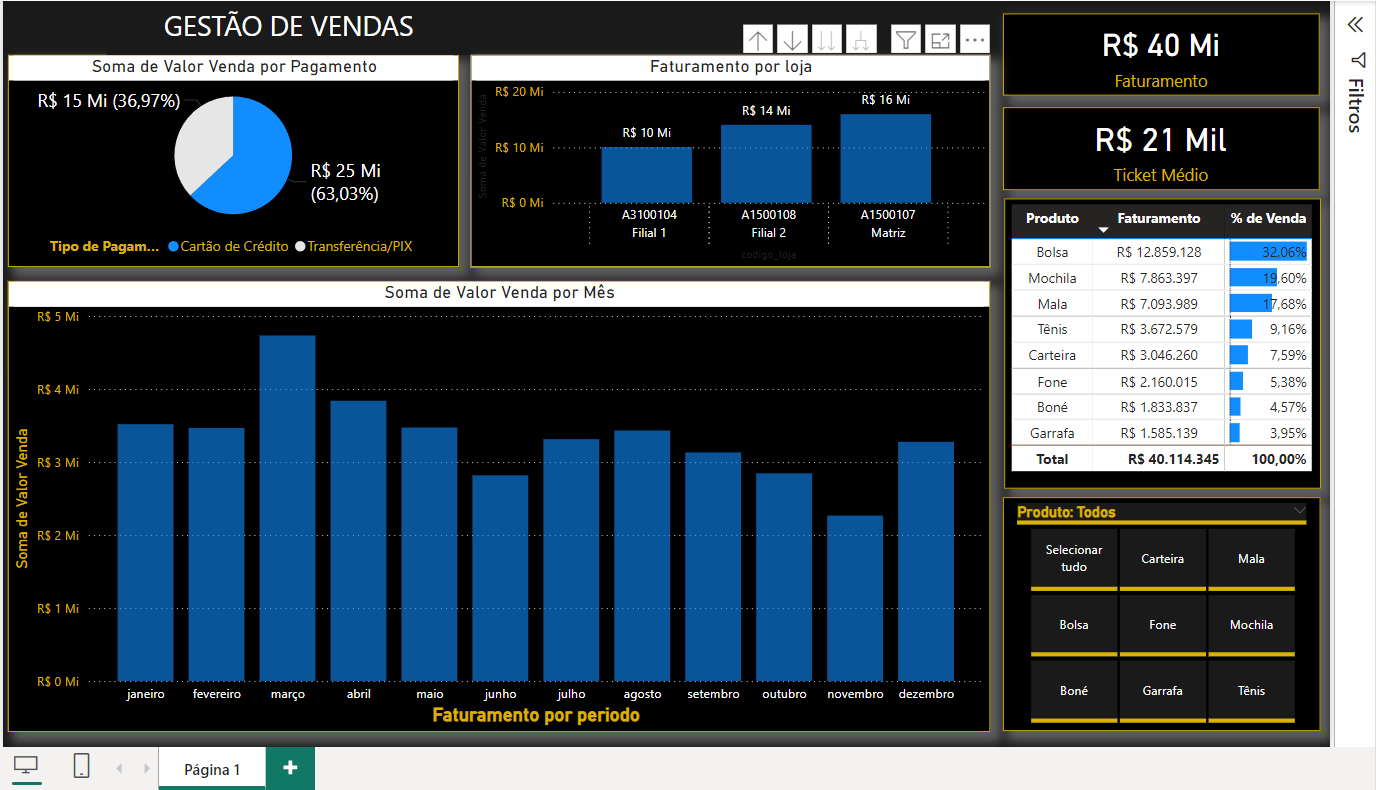

The dashboard page shown, as its layout file describes it:
{"tool":"powerbi","page":{"name":"Página 1","canvas":[1280,720],"ordinal":0},"visuals":[{"type":"card","fields":{"Values":["Sum(registroVendas.Valor Venda)"]},"box":[964.8,12.2,305.7,79.5],"z":0},{"type":"card","fields":{"Values":["Avg(registroVendas.Valor Venda)"]},"box":[965.2,102.5,305.2,79.6],"z":1000},{"type":"clusteredColumnChart","fields":{"Category":["registroVendas.Data Pedido.Variation.Hierarquia de datas.Mês"],"Y":["Sum(registroVendas.Valor Venda)"]},"box":[4.9,270.2,947.7,435.3],"z":2000},{"type":"pieChart","fields":{"Y":["Sum(registroVendas.Valor Venda)"],"Category":["registroVendas.Pagamento"]},"box":[4.8,51.9,435.5,205.1],"z":3000},{"type":"clusteredColumnChart","title":"Faturamento por loja","fields":{"Y":["Sum(registroVendas.Valor Venda)"],"Category":["lojas.nome_loja","lojas.codigo_loja"]},"box":[451.2,51.9,501.9,205.1],"z":4000},{"type":"tableEx","fields":{"Values":["registroVendas.Produto","Sum(registroVendas.Valor Venda)","Divide(Sum(registroVendas.Valor Venda), ScopedEval(Sum(registroVendas.Valor Venda), []))"]},"box":[966.4,190.6,305.2,279.9],"z":5000},{"type":"slicer","fields":{"Values":["registroVendas.Produto"]},"box":[965.2,479,306.4,225.6],"z":6000},{"type":"textbox","box":[100.1,0,351.1,51.9],"z":7000}]}

Visuals, with their boxes in screenshot pixels (x1, y1, x2, y2):
card - Sum(registroVendas.Valor Venda): bbox=[1001, 6, 1325, 90]
card - Avg(registroVendas.Valor Venda): bbox=[1002, 101, 1325, 186]
clusteredColumnChart - registroVendas.Data Pedido.Variation.Hierarquia de datas.Mês x Sum(registroVendas.Valor Venda): bbox=[0, 279, 988, 741]
pieChart - Sum(registroVendas.Valor Venda) x registroVendas.Pagamento: bbox=[0, 48, 445, 265]
"Faturamento por loja" clusteredColumnChart: bbox=[457, 48, 989, 265]
tableEx - registroVendas.Produto x Sum(registroVendas.Valor Venda): bbox=[1003, 195, 1327, 492]
slicer - registroVendas.Produto: bbox=[1002, 501, 1327, 740]
textbox: bbox=[85, 0, 457, 48]
